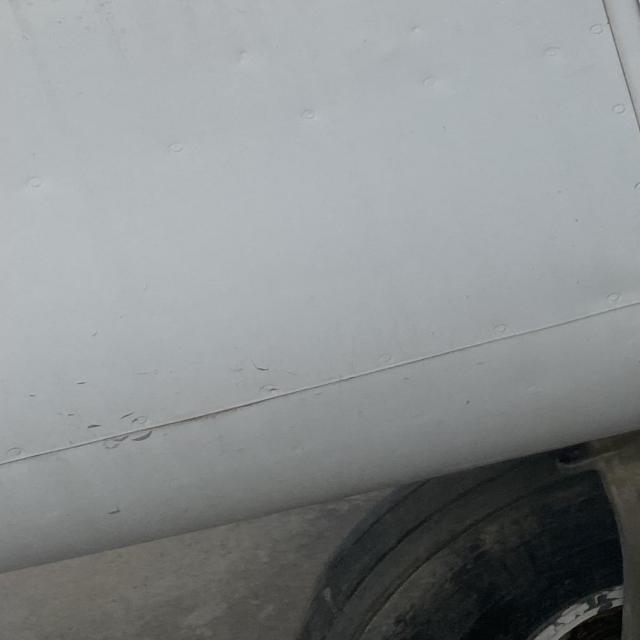Paint-off: (119, 410, 150, 426), (242, 359, 272, 374), (102, 436, 132, 450), (104, 505, 123, 522), (133, 431, 155, 441), (84, 422, 105, 430), (74, 377, 87, 389)
